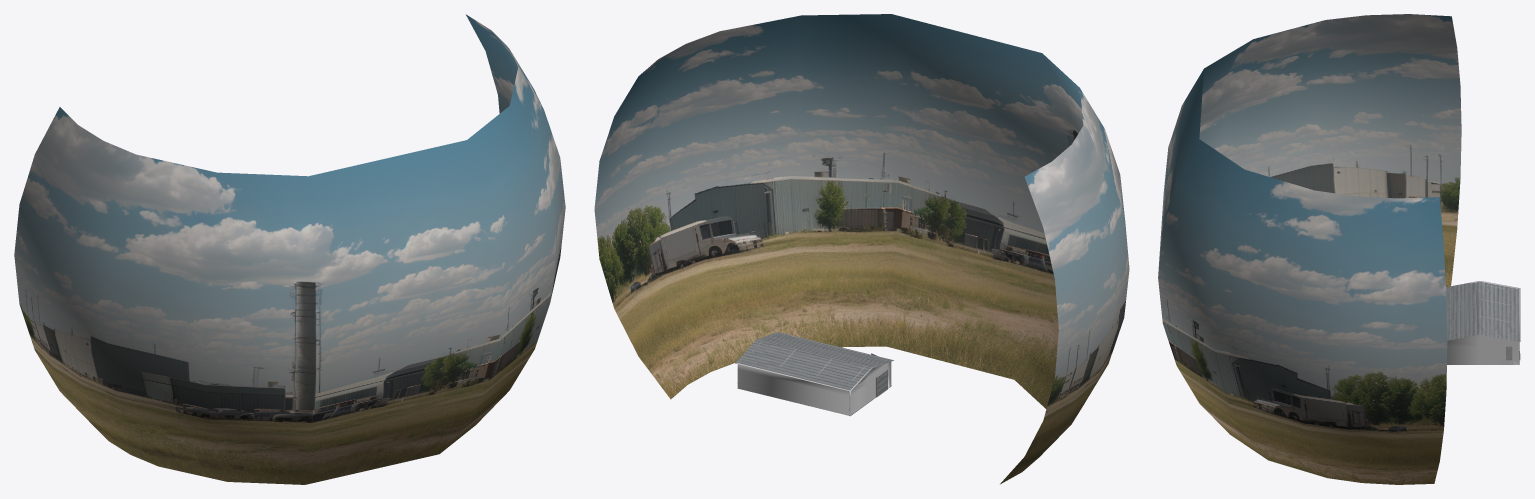
Rendered from SvarkaMenue.fbx_Scene.fbx.
The picture shows the model from 3 angles, left to right: view 1: azimuth 30°, elevation 25°; view 2: azimuth 150°, elevation 25°; view 3: azimuth 270°, elevation 25°; orthographic projection. The views are drawn at different scales.
Visible parts, largest first — view 1: Sphere; view 2: Sphere, model_25.002, model_24; view 3: Sphere, model_25.002, model_24.
Part boxes in pixels (box(x1,y1,x2,y2)): Sphere: box(14, 14, 565, 484); Sphere: box(594, 14, 1129, 484); model_25.002: box(735, 332, 893, 391); model_24: box(737, 335, 891, 416); Sphere: box(1158, 14, 1461, 484); model_25.002: box(1446, 281, 1520, 341); model_24: box(1447, 281, 1520, 364).
Size of the model in its own units: 8622 by 5446 by 5962.
